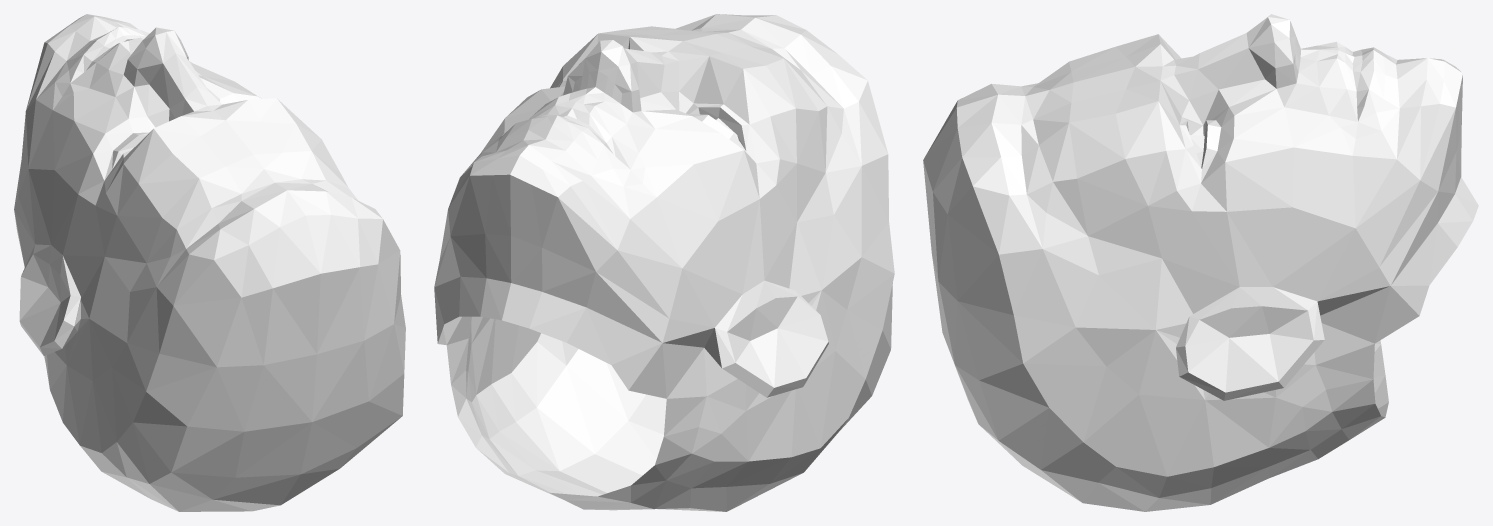
The model's file is head.dae.
3 views of the same model, side by side, from view 1: azimuth 30°, elevation 25°; view 2: azimuth 150°, elevation 25°; view 3: azimuth 270°, elevation 25° (orthographic). The views are drawn at different scales.
Visible parts, largest first — view 1: node; view 2: node; view 3: node.
Part boxes in pixels (left/top/right/bottom): node: left=14, top=14, right=405, bottom=511; node: left=434, top=14, right=894, bottom=511; node: left=923, top=14, right=1478, bottom=511.
Size of the model in its own units: 0.167 by 0.2309 by 0.2443.
1 material, 1 textured.
